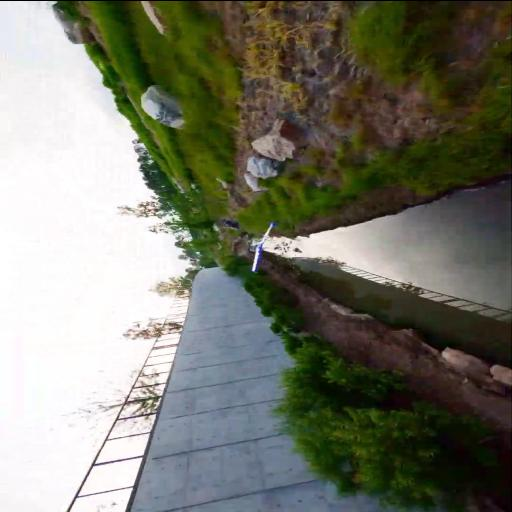uav: (243, 219, 281, 273)
